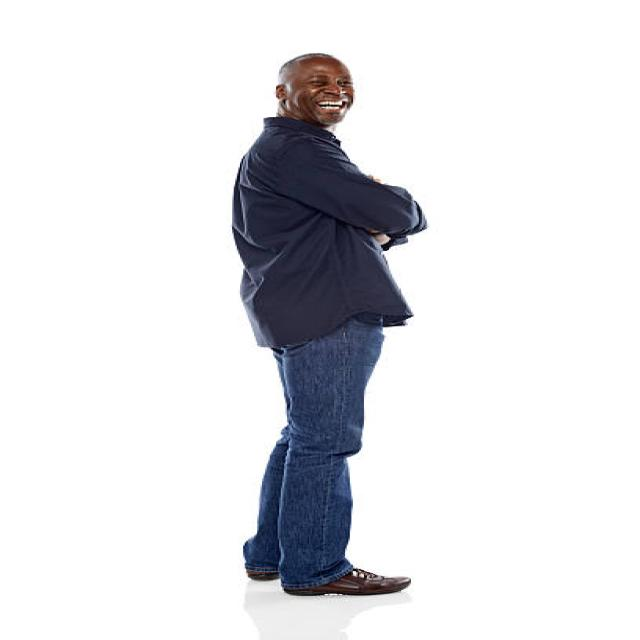Edited images: (200, 42, 479, 606)
